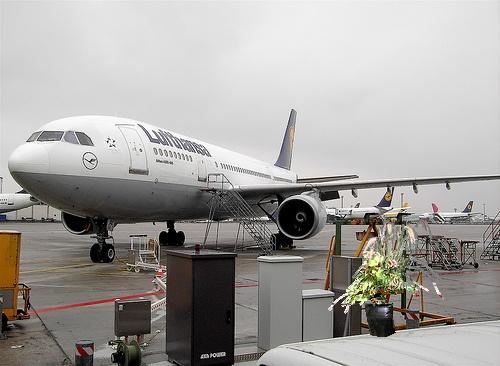tampered: (329, 219, 444, 337)
